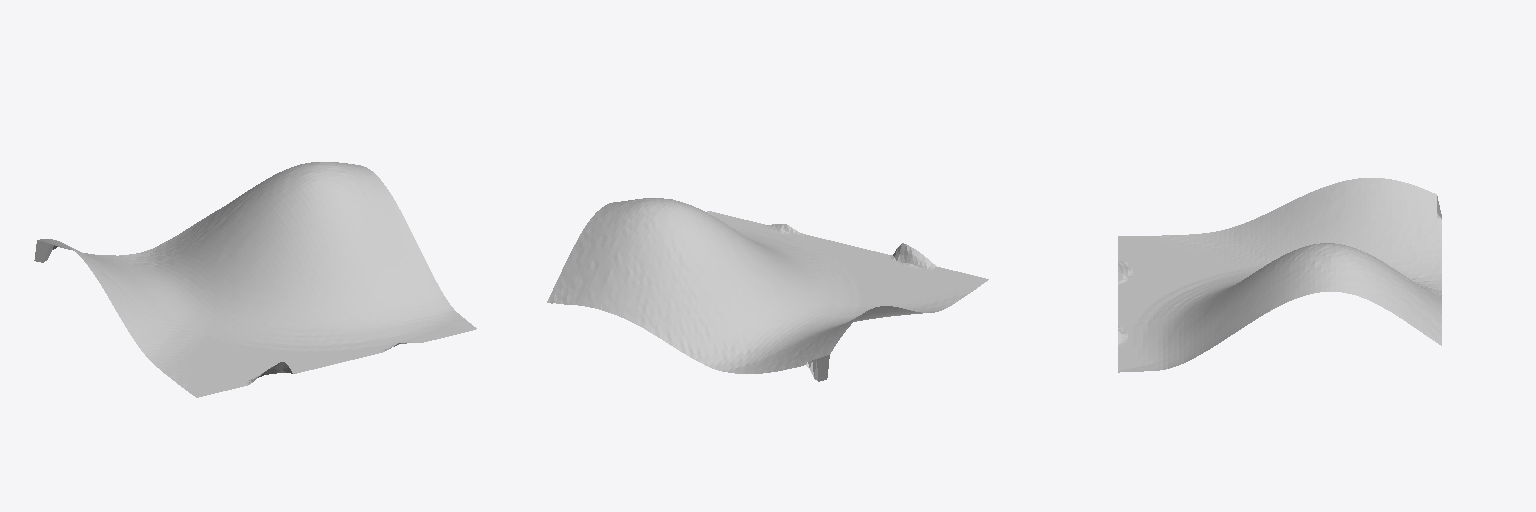
Rendered from SM_Terrain_Tuto2Chunk1.0.obj.
3 renders of one model, left to right at view 1: azimuth 30°, elevation 25°; view 2: azimuth 150°, elevation 25°; view 3: azimuth 270°, elevation 25°, orthographic.
Bounding box in the file's own units: 100 × 32.92 × 100.